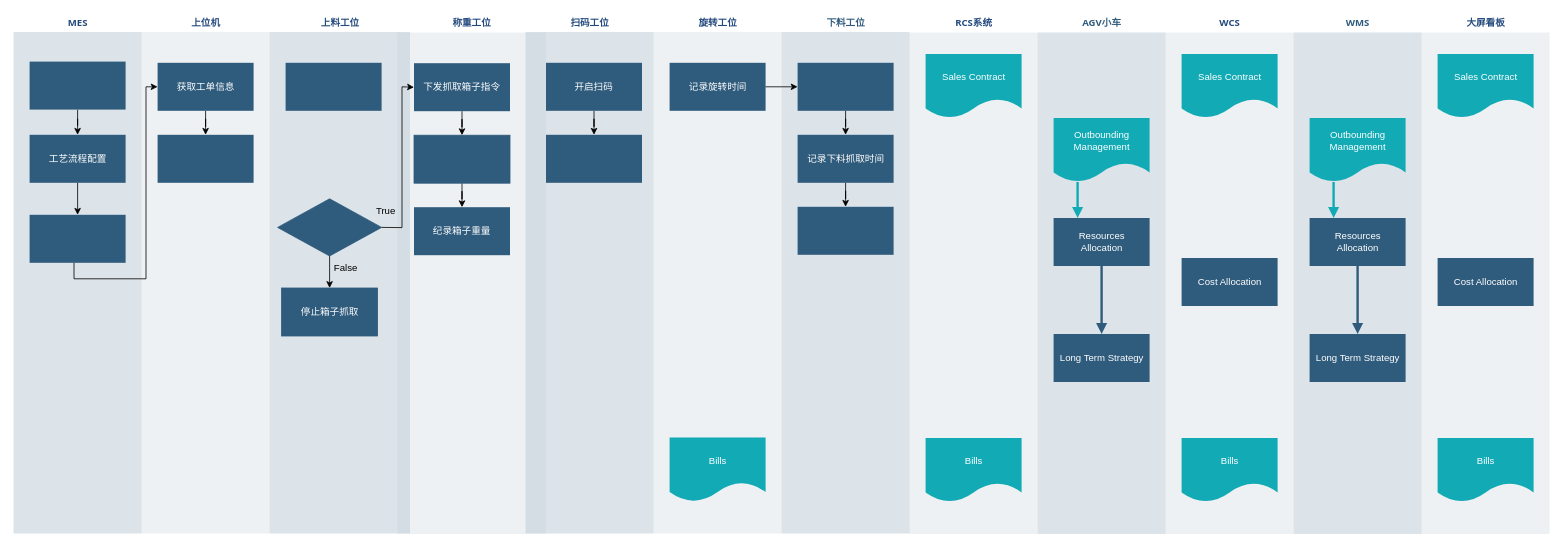
Some shapes in this 1563 by 548 pixel diagram are drawn without their labels. Each missing label, with the centre of its shape:
"下发工单" goes at (x=77, y=238).
"发送下料码垛指令" goes at (x=845, y=230).
"工序配置" goes at (x=77, y=85).
"根据工单数量抓取箱子" goes at (x=333, y=86).
"根据工艺流程下发指令给工位" goes at (x=205, y=158).
"生产数量<工单数量" goes at (x=329, y=227).
"记录工单生产数量" goes at (x=845, y=86).
"记录已抓取数量，和抓取记录" goes at (x=461, y=158).
"记录扫码数据" goes at (x=594, y=158).
